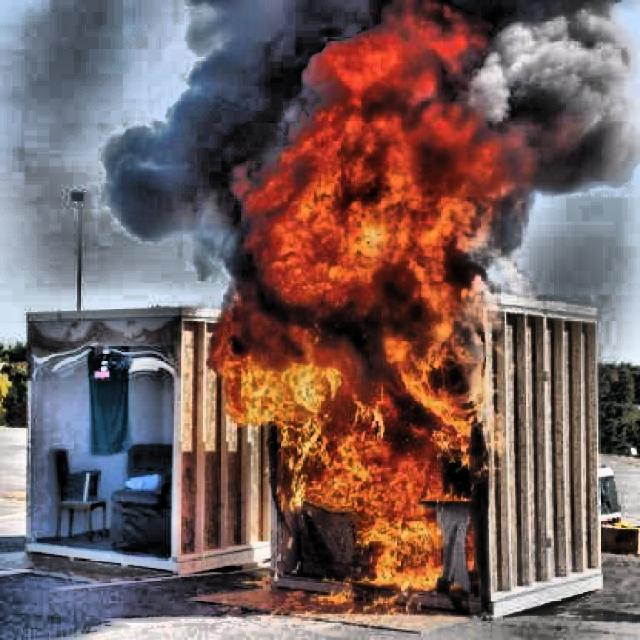Fire: (204, 0, 535, 612)
